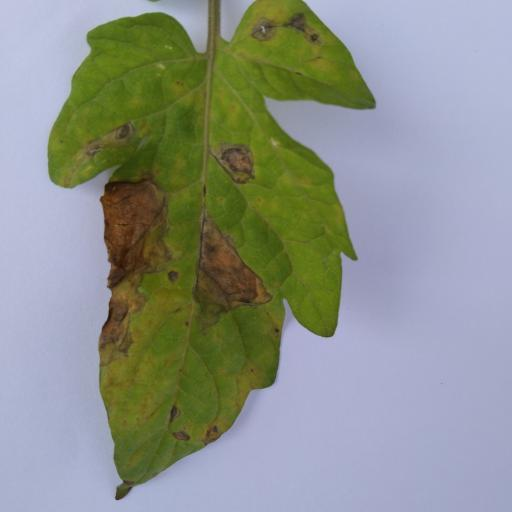disease_tomato: (49, 0, 379, 499)
